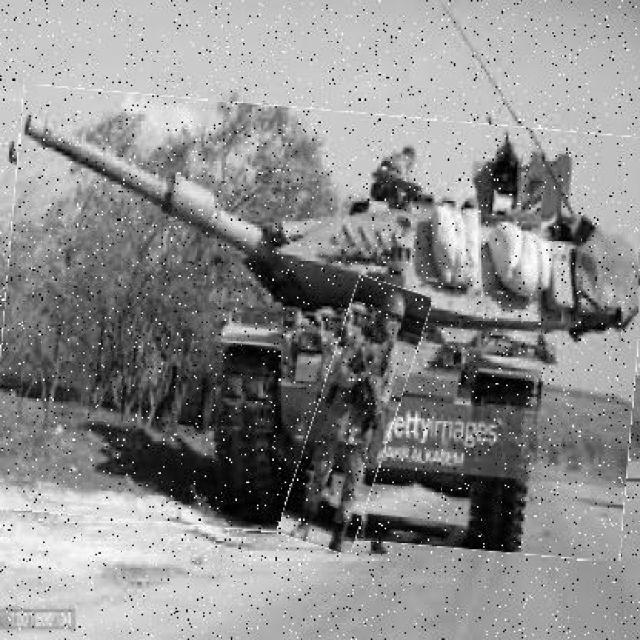Person: (298, 279, 415, 555)
Tank: (1, 97, 639, 550)
